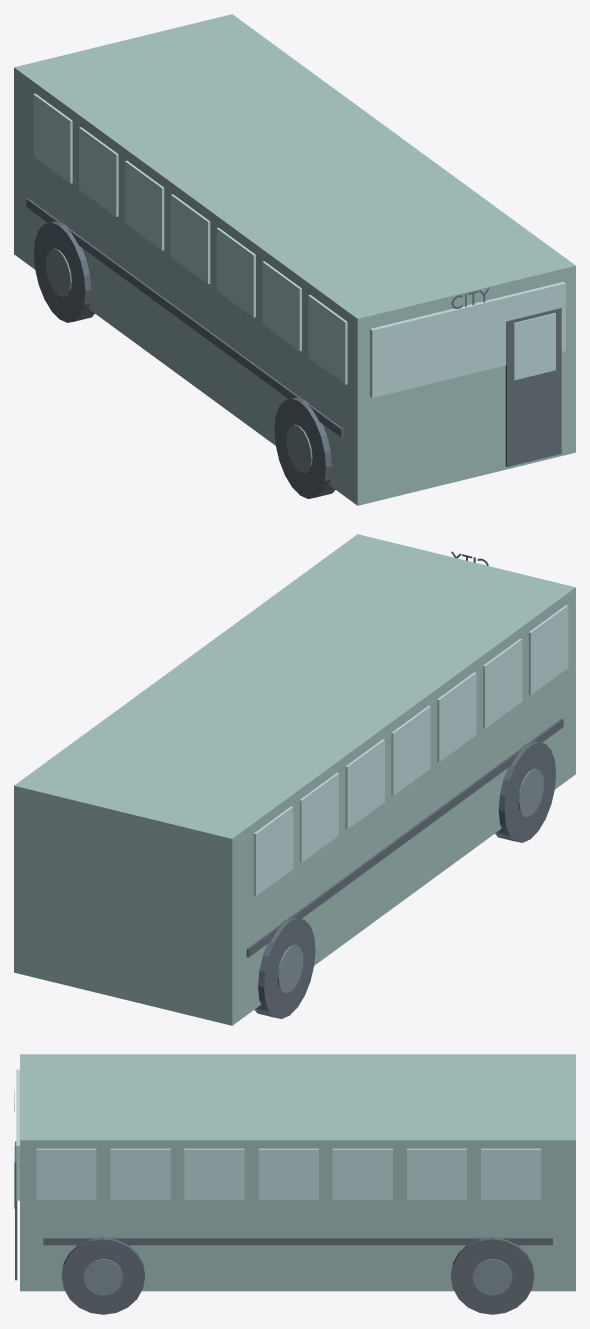
Rendered from city_bus.glb.
3 views of the same model, one above another, from view 1: azimuth 30°, elevation 25°; view 2: azimuth 150°, elevation 25°; view 3: azimuth 270°, elevation 25° (orthographic). The views are drawn at different scales.
Parts seen in each view (by area): view 1: city_bus_000, city_bus_009, city_bus_026, city_bus_003, city_bus_001, city_bus_017, city_bus_013, city_bus_010, city_bus_011, city_bus_012, city_bus_014, city_bus_015 (+4 smaller); view 2: city_bus_000, city_bus_001, city_bus_003, city_bus_017, city_bus_010, city_bus_016, city_bus_011, city_bus_012, city_bus_013, city_bus_014, city_bus_015, city_bus_004 (+1 smaller); view 3: city_bus_000, city_bus_025, city_bus_005, city_bus_007, city_bus_019, city_bus_020, city_bus_018, city_bus_021, city_bus_022, city_bus_024, city_bus_023, city_bus_008 (+3 smaller).
Boxes of the visible parts, x1,y1,x2,y2 form: city_bus_000: (14, 14, 575, 505); city_bus_009: (370, 281, 565, 397); city_bus_026: (505, 308, 561, 466); city_bus_003: (34, 221, 94, 322); city_bus_001: (274, 397, 335, 498); city_bus_017: (26, 198, 343, 437); city_bus_013: (170, 194, 210, 283); city_bus_010: (308, 295, 347, 384); city_bus_011: (262, 261, 301, 351); city_bus_012: (216, 227, 255, 317); city_bus_014: (125, 160, 164, 250); city_bus_015: (79, 127, 118, 216); city_bus_000: (14, 534, 575, 1025); city_bus_001: (495, 741, 555, 842); city_bus_003: (254, 917, 315, 1018); city_bus_017: (246, 718, 563, 957); city_bus_010: (528, 605, 568, 694); city_bus_016: (253, 806, 293, 896); city_bus_011: (483, 638, 522, 728); city_bus_012: (437, 672, 476, 761); city_bus_013: (391, 705, 430, 795); city_bus_014: (345, 739, 384, 829); city_bus_015: (299, 773, 338, 862); city_bus_004: (277, 944, 303, 993); city_bus_000: (20, 1054, 575, 1291); city_bus_025: (43, 1237, 552, 1245); city_bus_005: (61, 1237, 144, 1314); city_bus_007: (451, 1237, 534, 1314); city_bus_019: (110, 1148, 170, 1199); city_bus_020: (184, 1148, 244, 1199); city_bus_018: (36, 1148, 96, 1199); city_bus_021: (258, 1148, 318, 1199); city_bus_022: (332, 1148, 392, 1199); city_bus_024: (481, 1148, 541, 1199); city_bus_023: (407, 1148, 466, 1199); city_bus_008: (472, 1259, 512, 1295).
Size of the model in its own units: 2.35 by 2.07 by 6.06.
